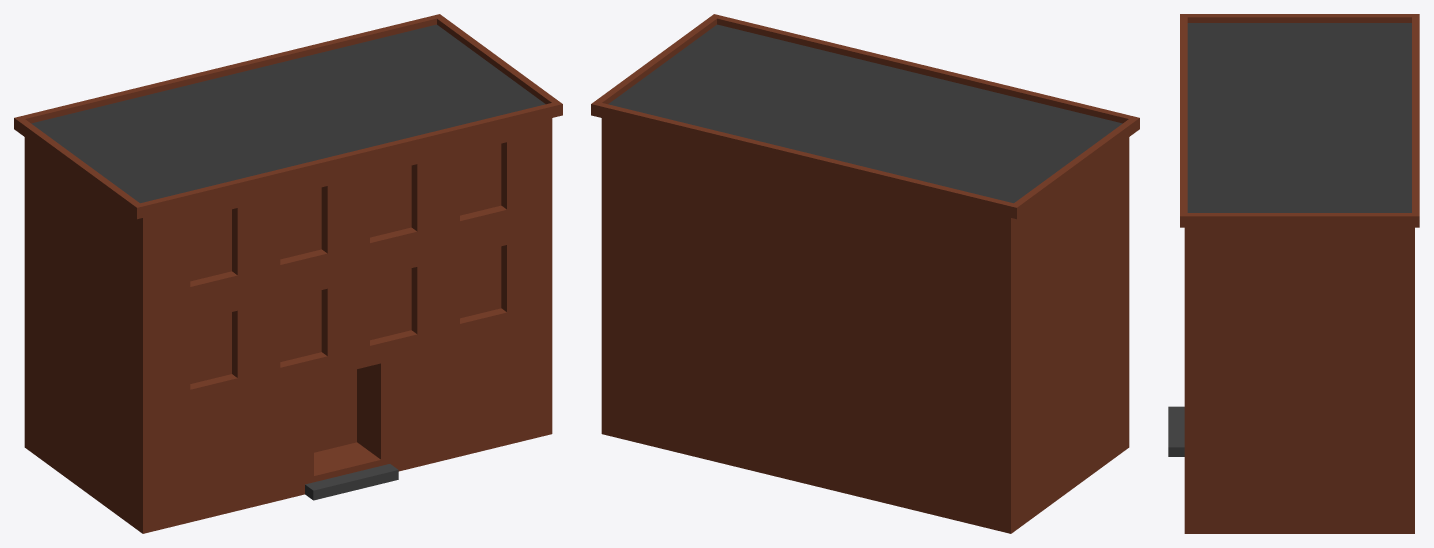
The model's file is bytovka.fbx.
3 renders of one model, left to right at view 1: azimuth 30°, elevation 25°; view 2: azimuth 150°, elevation 25°; view 3: azimuth 270°, elevation 25°, orthographic. The views are drawn at different scales.
Visible parts, largest first — view 1: bytovka_export; view 2: bytovka_export; view 3: bytovka_export.
Boxes of the visible parts, bbox=[...] form: bytovka_export: bbox=[14, 14, 562, 533]; bytovka_export: bbox=[591, 14, 1139, 533]; bytovka_export: bbox=[1168, 14, 1419, 533].
Bounding box in the file's own units: 832 × 616 × 437.
